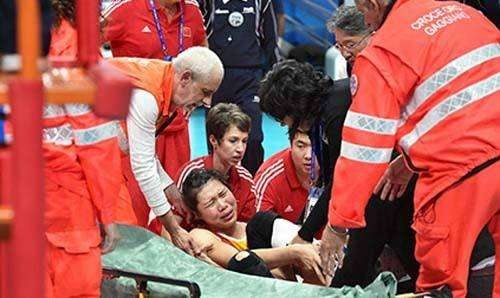falling: (162, 148, 397, 298)
